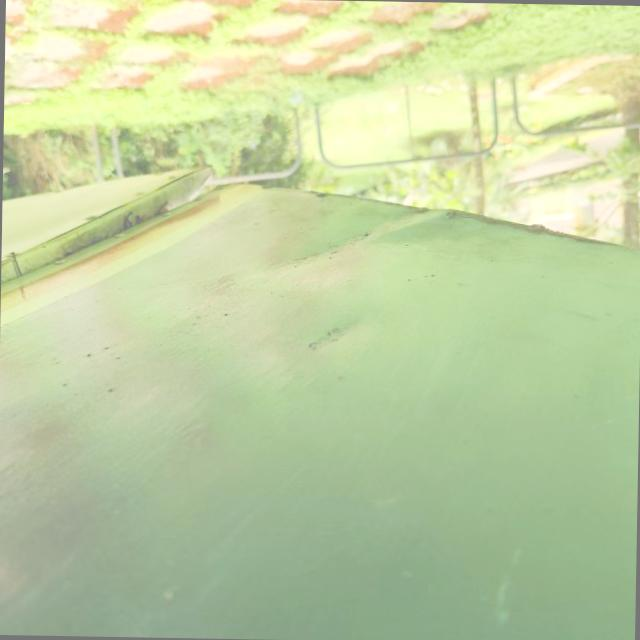dent: (240, 178, 482, 315), (284, 294, 388, 389)
